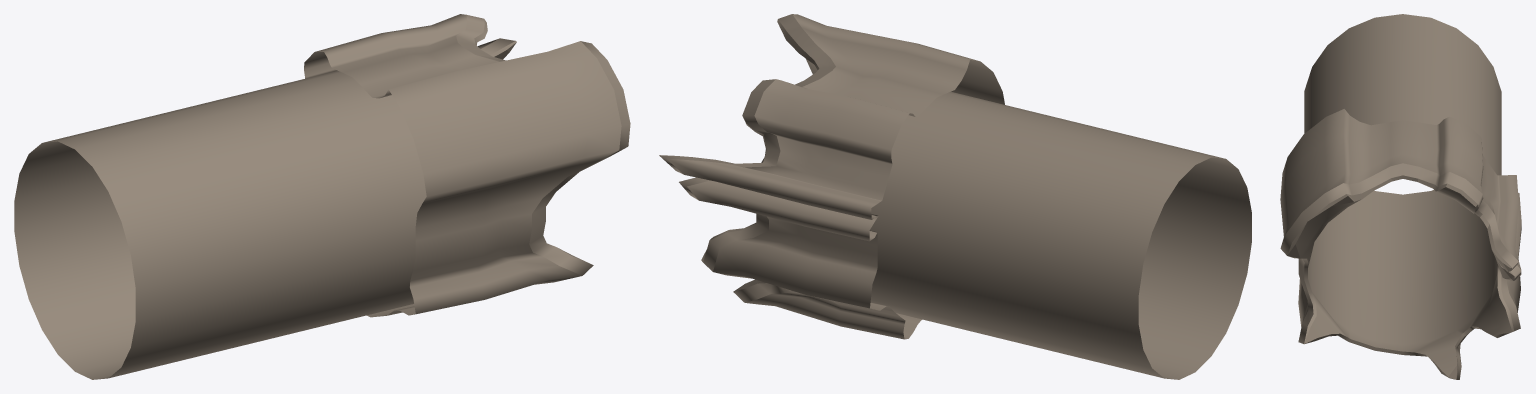
Rendered from mesh_TileRedondoRoto2 1.fbx.
3 views of the same model, side by side, from view 1: azimuth 30°, elevation 25°; view 2: azimuth 150°, elevation 25°; view 3: azimuth 270°, elevation 25° (orthographic). The views are drawn at different scales.
Visible parts, largest first — view 1: TileRedondoRoto2; view 2: TileRedondoRoto2; view 3: TileRedondoRoto2.
Part boxes in pixels (left/top/right/bottom): TileRedondoRoto2: left=14, top=14, right=630, bottom=379; TileRedondoRoto2: left=659, top=14, right=1251, bottom=379; TileRedondoRoto2: left=1280, top=14, right=1521, bottom=379.
Bounding box in the file's own units: 3785 × 1817 × 1914.
